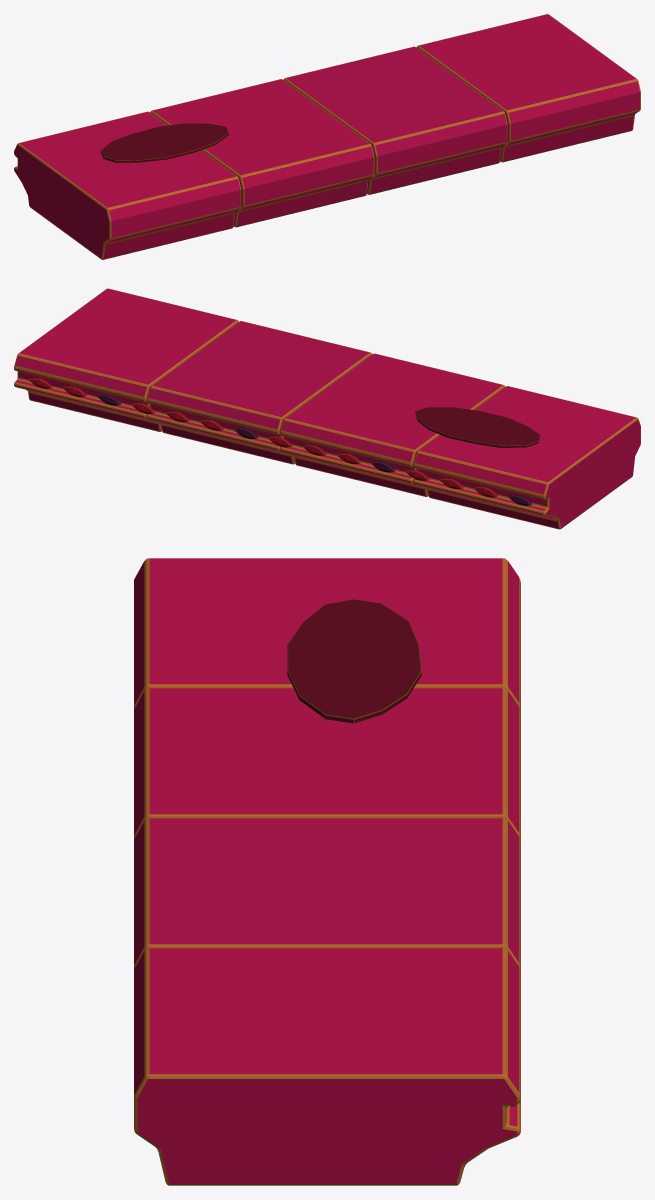
File: SM_RV_Coping.fbx
The picture shows the model from 3 angles, top to bottom: view 1: azimuth 30°, elevation 25°; view 2: azimuth 150°, elevation 25°; view 3: azimuth 270°, elevation 25°; orthographic projection. The views are drawn at different scales.
Visible parts, largest first — view 1: SM_RV_Coping; view 2: SM_RV_Coping; view 3: SM_RV_Coping.
Boxes of the visible parts, box(x1,y1,x2,y2) form: SM_RV_Coping: box(14, 14, 640, 259); SM_RV_Coping: box(14, 288, 640, 529); SM_RV_Coping: box(134, 558, 520, 1185).
Size of the model in its own units: 132 by 419 by 43.8.
